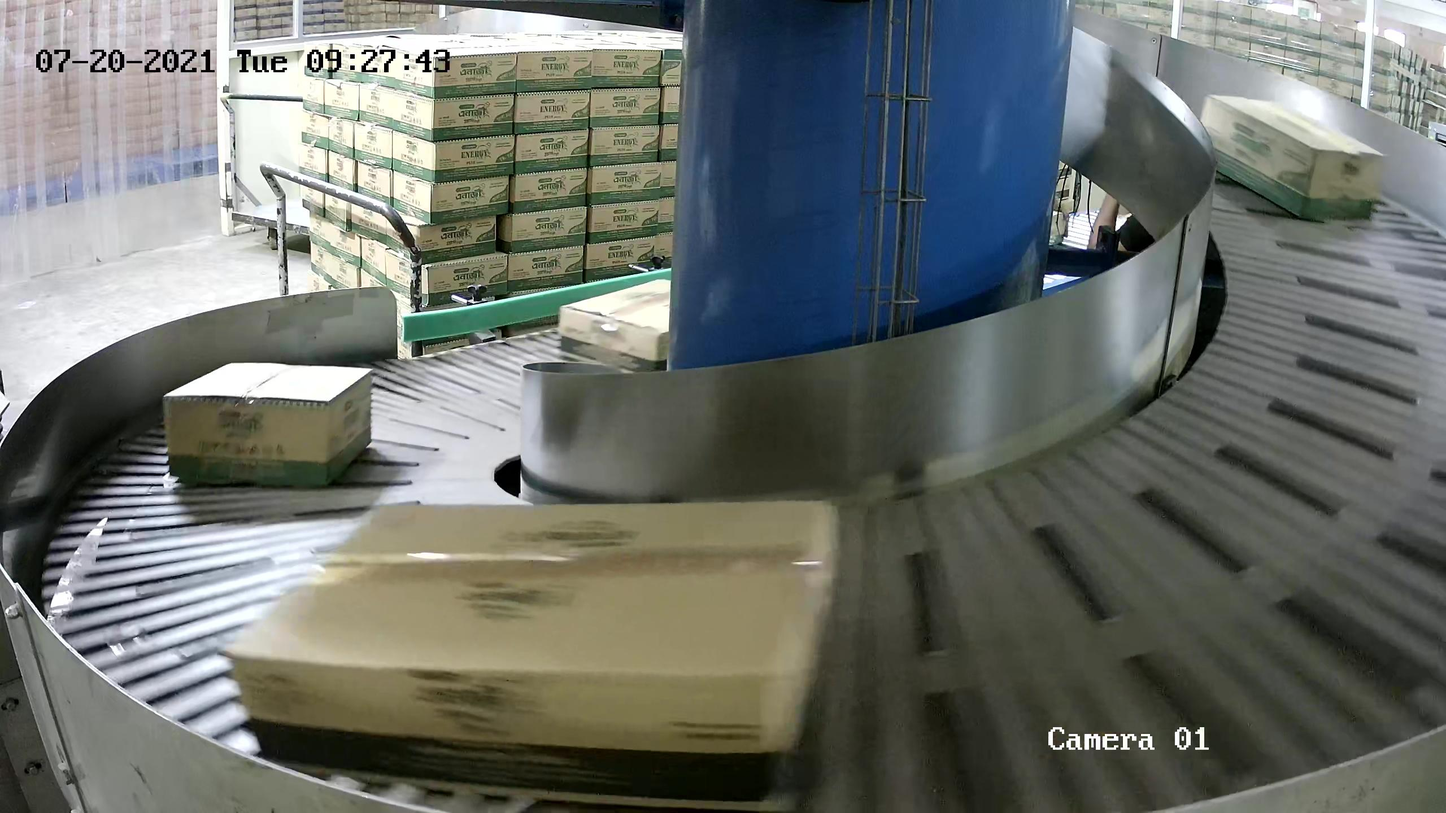Box: (217, 489, 842, 813), (161, 360, 375, 488), (1198, 92, 1385, 222), (555, 277, 671, 374)
